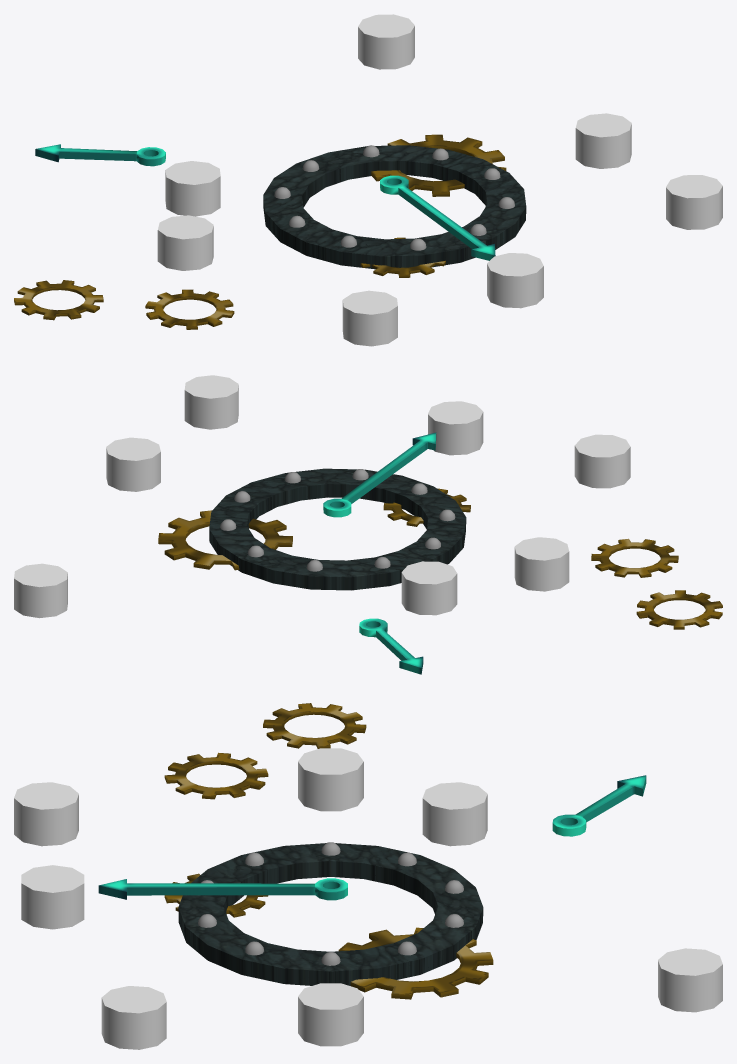
Rendered from Timed portal destroyed.FBX.
3 views of the same model, one above another, from view 1: azimuth 30°, elevation 25°; view 2: azimuth 150°, elevation 25°; view 3: azimuth 270°, elevation 25° (orthographic). The views are drawn at different scales.
Visible parts, largest first — view 1: Cylinder001, Cylinder014, Cylinder004, Cylinder008, Cylinder002, Cylinder009, Cylinder003, Cylinder015, Cylinder013, Plane001, Cylinder010, Cylinder012 (+3 smaller); view 2: Cylinder001, Cylinder003, Cylinder015, Cylinder004, Cylinder009, Cylinder008, Cylinder014, Cylinder013, Cylinder002, Plane001, Cylinder010, Cylinder012 (+3 smaller); view 3: Cylinder001, Cylinder004, Cylinder008, Cylinder009, Cylinder015, Cylinder014, Cylinder003, Cylinder002, Plane001, Cylinder013, Cylinder012, Cylinder010 (+3 smaller).
Boxes of the visible parts, x1=… form: Cylinder001: x1=263, y1=145, x2=526, y2=269; Cylinder014: x1=358, y1=14, x2=414, y2=69; Cylinder004: x1=157, y1=215, x2=213, y2=270; Cylinder008: x1=575, y1=113, x2=631, y2=168; Cylinder002: x1=487, y1=253, x2=543, y2=308; Cylinder009: x1=666, y1=175, x2=722, y2=229; Cylinder003: x1=342, y1=290, x2=397, y2=346; Cylinder015: x1=165, y1=161, x2=220, y2=216; Cylinder013: x1=371, y1=134, x2=506, y2=196; Plane001: x1=380, y1=175, x2=495, y2=260; Cylinder010: x1=14, y1=280, x2=103, y2=320; Cylinder012: x1=145, y1=289, x2=234, y2=329; Cylinder001: x1=209, y1=468, x2=466, y2=590; Cylinder003: x1=574, y1=434, x2=630, y2=488; Cylinder015: x1=401, y1=561, x2=457, y2=615; Cylinder004: x1=514, y1=537, x2=569, y2=591; Cylinder009: x1=184, y1=375, x2=238, y2=429; Cylinder008: x1=106, y1=437, x2=160, y2=491; Cylinder014: x1=14, y1=563, x2=67, y2=618; Cylinder013: x1=158, y1=510, x2=292, y2=570; Cylinder002: x1=428, y1=401, x2=483, y2=455; Plane001: x1=323, y1=432, x2=436, y2=517; Cylinder010: x1=636, y1=590, x2=722, y2=629; Cylinder012: x1=591, y1=538, x2=678, y2=577; Cylinder001: x1=178, y1=843, x2=483, y2=985; Cylinder004: x1=298, y1=748, x2=363, y2=811; Cylinder008: x1=298, y1=983, x2=363, y2=1046; Cylinder009: x1=101, y1=986, x2=166, y2=1049; Cylinder015: x1=422, y1=782, x2=487, y2=846; Cylinder014: x1=658, y1=948, x2=722, y2=1012; Cylinder003: x1=14, y1=782, x2=78, y2=846; Cylinder002: x1=21, y1=865, x2=84, y2=929; Plane001: x1=98, y1=878, x2=347, y2=900; Cylinder013: x1=338, y1=927, x2=493, y2=999; Cylinder012: x1=164, y1=752, x2=268, y2=799; Cylinder010: x1=263, y1=703, x2=366, y2=748.
Size of the model in its own units: 307 by 18.01 by 264.
